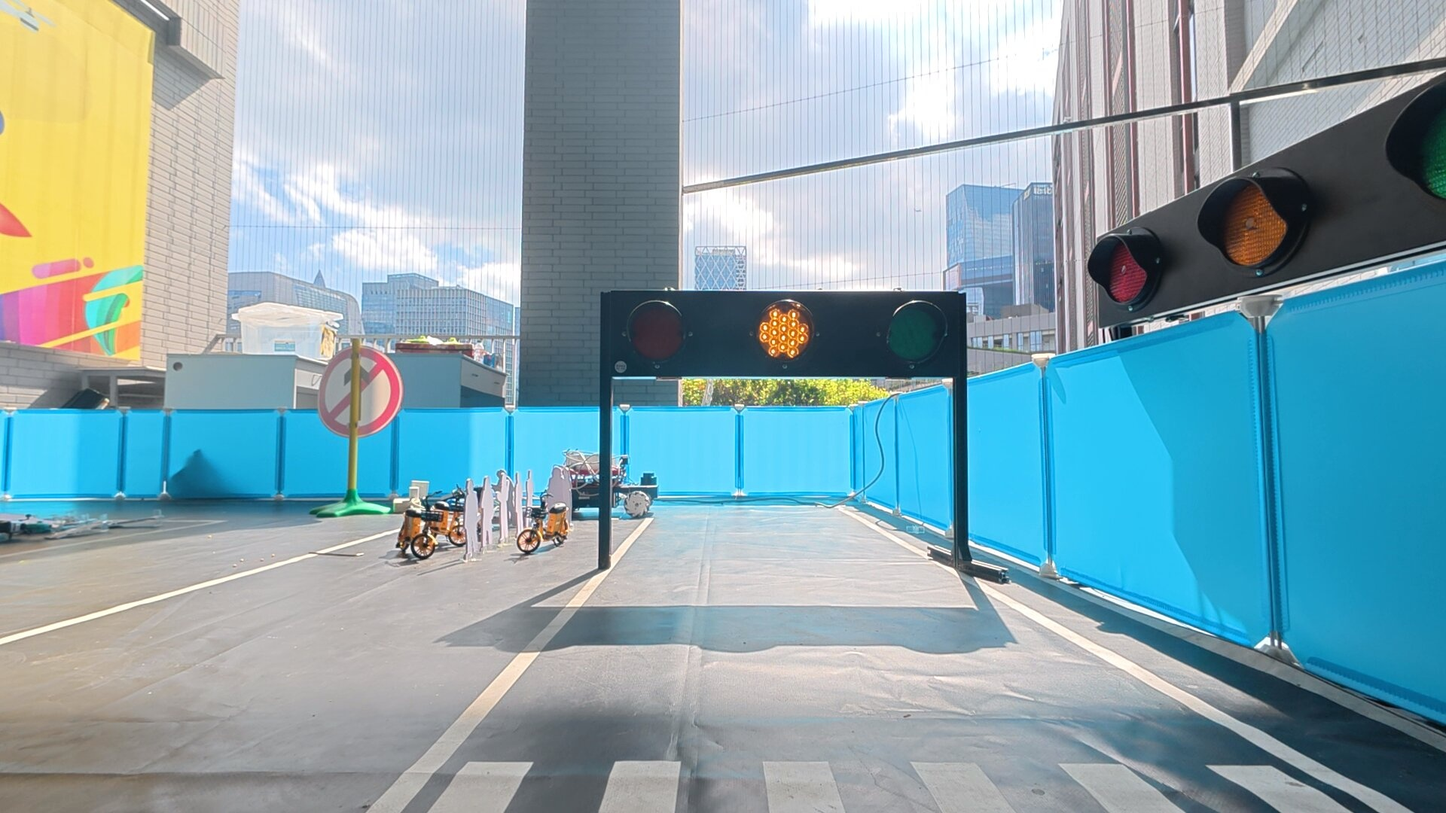stop: (755, 300, 815, 365)
